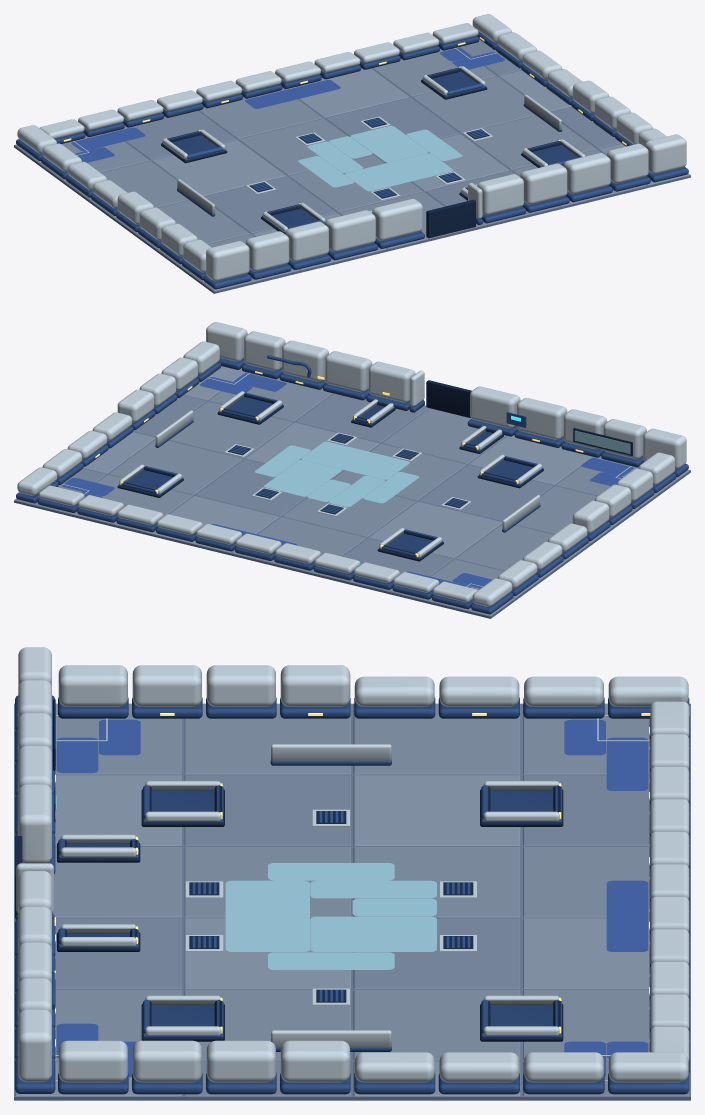
Rendered from CryoSoftRoom_cryo-c.fbx.
The picture shows the model from 3 angles, top to bottom: view 1: azimuth 30°, elevation 25°; view 2: azimuth 150°, elevation 25°; view 3: azimuth 270°, elevation 25°; orthographic projection. The views are drawn at different scales.
Visible parts, largest first — view 1: SC_wall_Soft_Ivory, SC_floor_Soft_Floor, SC_floor_Soft_FloorShade, SC_floor_Soft_FloorLight, SC_wall_Soft_Blue, SC_marking_Soft_Ice, SC_floor_Soft_Seam, SC_obstacle_Soft_Blue, SC_marking_Soft_Dock, SC_obstacle_Soft_Ivory, SC_wall_Soft_Navy, SC_rail_Soft_Ivory (+4 smaller); view 2: SC_wall_Soft_Ivory, SC_floor_Soft_Floor, SC_floor_Soft_FloorShade, SC_floor_Soft_FloorLight, SC_wall_Soft_Blue, SC_marking_Soft_Ice, SC_floor_Soft_Seam, SC_obstacle_Soft_Blue, SC_marking_Soft_Dock, SC_obstacle_Soft_Ivory, SC_wall_Soft_Navy, SC_obstacle_Soft_Navy (+5 smaller); view 3: SC_floor_Soft_Floor, SC_wall_Soft_Ivory, SC_floor_Soft_FloorShade, SC_floor_Soft_FloorLight, SC_wall_Soft_Blue, SC_marking_Soft_Ice, SC_marking_Soft_Dock, SC_obstacle_Soft_Blue, SC_floor_Soft_Seam, SC_obstacle_Soft_Ivory, SC_rail_Soft_Ivory, SC_obstacle_Soft_Navy (+4 smaller).
Boxes of the visible parts, x1=… form: SC_wall_Soft_Ivory: x1=17, y1=14, x2=686, y2=281; SC_floor_Soft_Floor: x1=15, y1=47, x2=646, y2=290; SC_floor_Soft_FloorShade: x1=112, y1=39, x2=620, y2=233; SC_floor_Soft_FloorLight: x1=152, y1=68, x2=689, y2=269; SC_wall_Soft_Blue: x1=16, y1=31, x2=688, y2=289; SC_marking_Soft_Ice: x1=298, y1=125, x2=462, y2=191; SC_floor_Soft_Seam: x1=14, y1=47, x2=690, y2=293; SC_obstacle_Soft_Blue: x1=162, y1=67, x2=582, y2=233; SC_marking_Soft_Dock: x1=71, y1=48, x2=504, y2=162; SC_obstacle_Soft_Ivory: x1=162, y1=66, x2=585, y2=232; SC_wall_Soft_Navy: x1=426, y1=199, x2=475, y2=238; SC_rail_Soft_Ivory: x1=177, y1=94, x2=561, y2=214; SC_wall_Soft_Ivory: x1=17, y1=322, x2=686, y2=606; SC_floor_Soft_Floor: x1=58, y1=372, x2=689, y2=616; SC_floor_Soft_FloorShade: x1=15, y1=393, x2=552, y2=594; SC_floor_Soft_FloorLight: x1=83, y1=366, x2=592, y2=558; SC_wall_Soft_Blue: x1=16, y1=355, x2=688, y2=614; SC_marking_Soft_Ice: x1=255, y1=441, x2=418, y2=507; SC_floor_Soft_Seam: x1=14, y1=372, x2=690, y2=618; SC_obstacle_Soft_Blue: x1=118, y1=392, x2=542, y2=558; SC_marking_Soft_Dock: x1=62, y1=373, x2=633, y2=588; SC_obstacle_Soft_Ivory: x1=119, y1=391, x2=542, y2=557; SC_wall_Soft_Navy: x1=426, y1=380, x2=632, y2=455; SC_obstacle_Soft_Navy: x1=117, y1=405, x2=543, y2=561; SC_floor_Soft_Floor: x1=52, y1=703, x2=689, y2=1060; SC_wall_Soft_Ivory: x1=16, y1=647, x2=689, y2=1082; SC_floor_Soft_FloorShade: x1=15, y1=775, x2=689, y2=1096; SC_floor_Soft_FloorLight: x1=15, y1=775, x2=649, y2=1096; SC_wall_Soft_Blue: x1=15, y1=695, x2=689, y2=1094; SC_marking_Soft_Ice: x1=225, y1=863, x2=436, y2=969; SC_marking_Soft_Dock: x1=56, y1=719, x2=648, y2=1077; SC_obstacle_Soft_Blue: x1=58, y1=785, x2=561, y2=1037; SC_floor_Soft_Seam: x1=14, y1=703, x2=690, y2=1100; SC_obstacle_Soft_Ivory: x1=60, y1=781, x2=559, y2=1035; SC_rail_Soft_Ivory: x1=271, y1=744, x2=391, y2=1047; SC_obstacle_Soft_Navy: x1=57, y1=789, x2=563, y2=1041.
Bounding box in the file's own units: 4400 × 334 × 3200.
